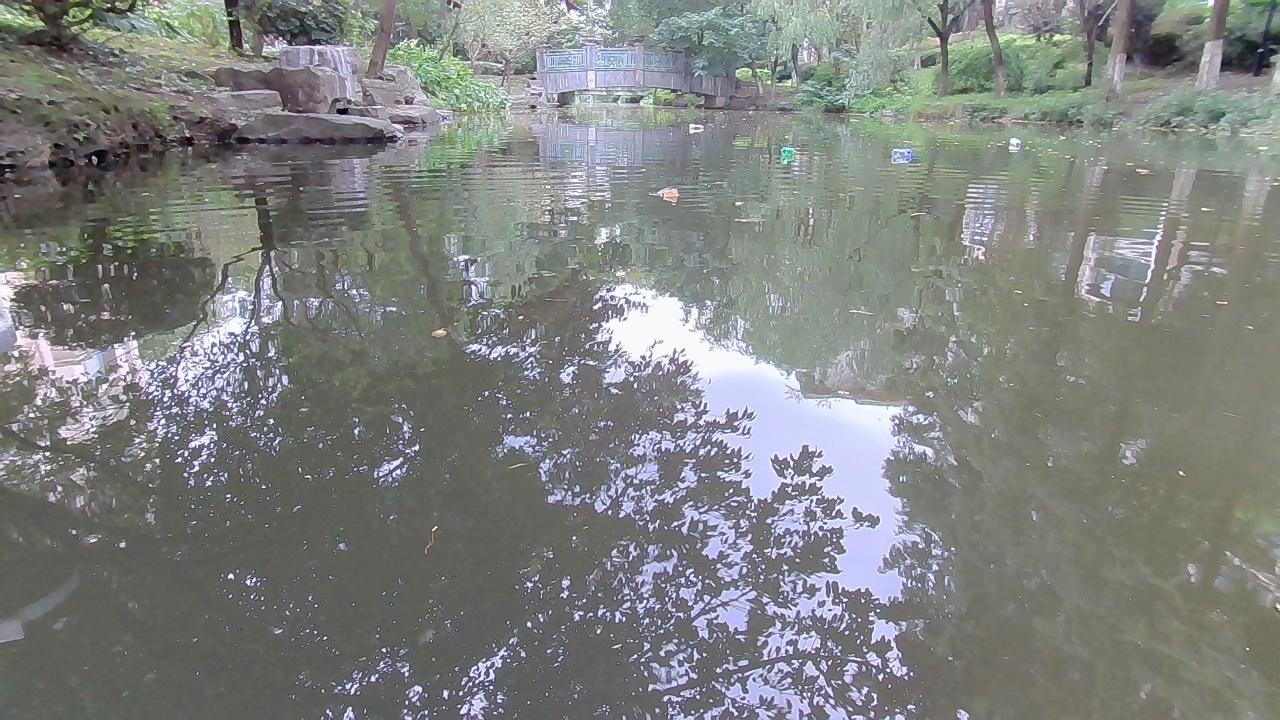bottle: (648, 183, 685, 200), (888, 146, 910, 155), (778, 145, 794, 157), (685, 122, 706, 128), (1009, 134, 1019, 145)
